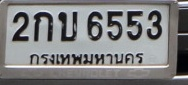num2: (9, 10, 31, 43)
txt01: (32, 10, 55, 43)
txt21: (57, 10, 79, 43)
